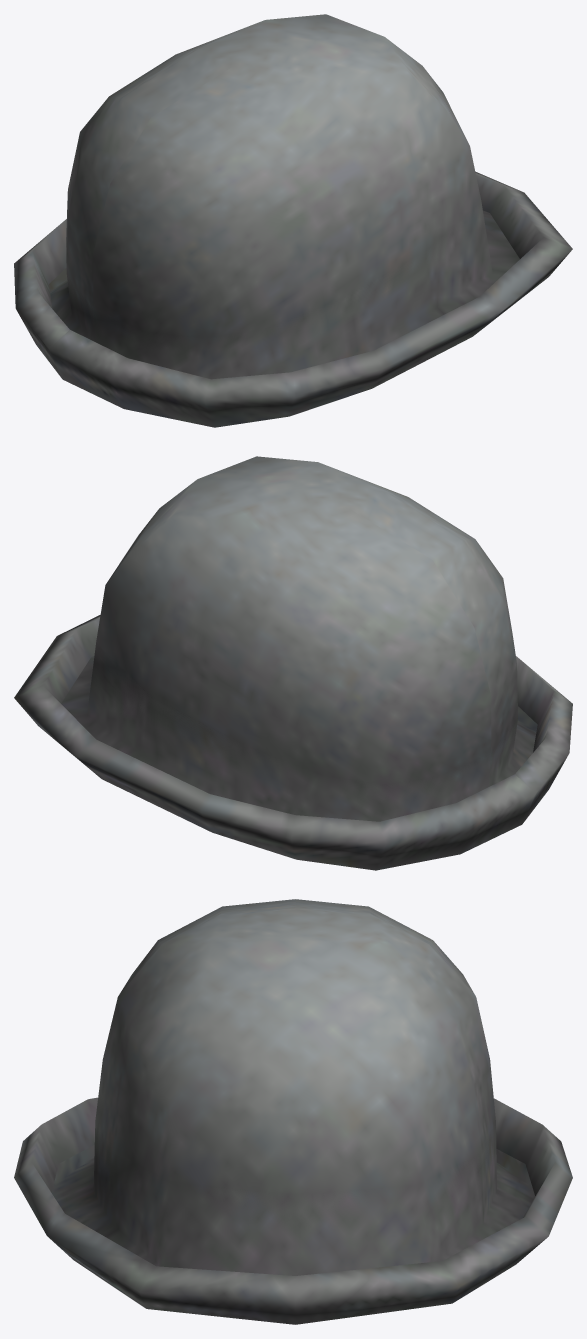
The model's file is hat_0450061.FBX.
The picture shows the model from 3 angles, top to bottom: view 1: azimuth 30°, elevation 25°; view 2: azimuth 150°, elevation 25°; view 3: azimuth 270°, elevation 25°; orthographic projection. The views are drawn at different scales.
Visible parts, largest first — view 1: hat_0450061; view 2: hat_0450061; view 3: hat_0450061.
Boxes of the visible parts, x1=… form: hat_0450061: x1=14, y1=14, x2=572, y2=427; hat_0450061: x1=14, y1=456, x2=572, y2=870; hat_0450061: x1=14, y1=899, x2=572, y2=1324.
Size of the model in its own units: 32.21 by 18.12 by 28.5.
